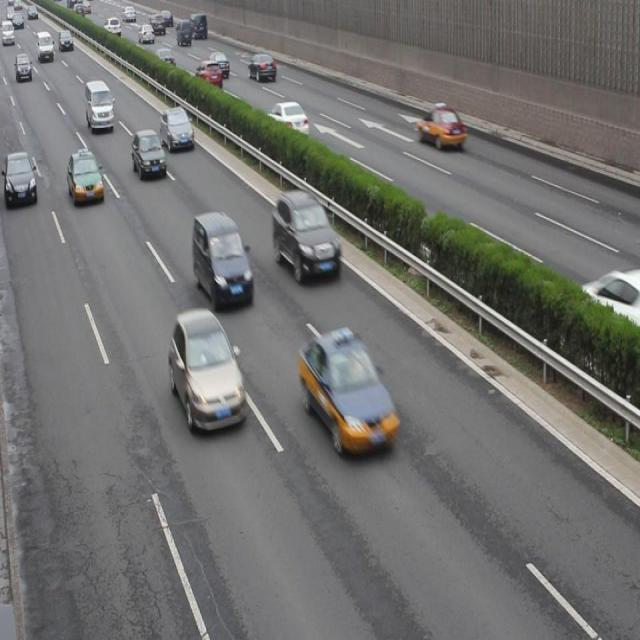car: (299, 328, 397, 454), (168, 308, 245, 429), (272, 190, 342, 282), (192, 210, 253, 306), (416, 101, 463, 150), (67, 150, 104, 204), (1, 153, 37, 206), (132, 129, 164, 178), (161, 109, 196, 151), (268, 101, 310, 136), (195, 62, 222, 89), (248, 55, 276, 81), (15, 54, 33, 83), (208, 53, 229, 77), (154, 47, 175, 69), (175, 20, 191, 46), (138, 23, 155, 47), (149, 14, 165, 36)
truck: (84, 80, 114, 133), (38, 30, 56, 62), (190, 12, 207, 39)
